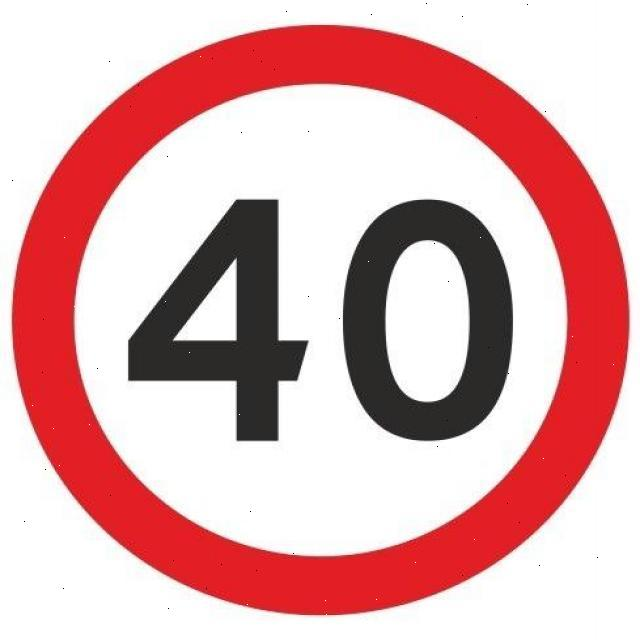speed limit 40: (4, 24, 631, 613)
